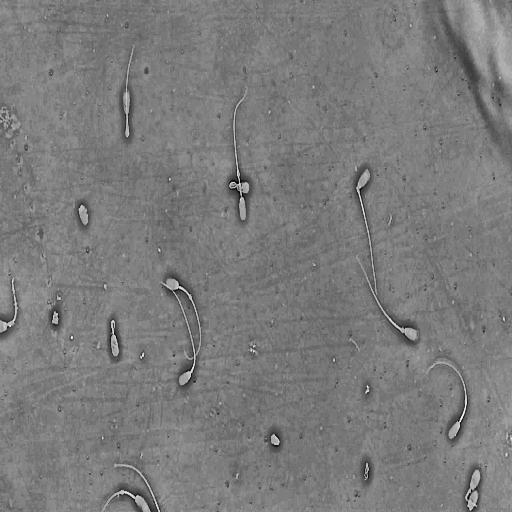coiled-tail: (229, 182, 245, 191), (110, 320, 115, 333), (110, 332, 113, 335)
dirt-particles: (269, 430, 281, 449), (51, 307, 59, 328), (363, 459, 370, 482)
distal-droplet: (188, 293, 192, 300), (120, 489, 124, 496), (237, 170, 240, 178), (465, 398, 467, 405)
folded-tail: (356, 186, 376, 294), (125, 49, 133, 139)
loose-head: (464, 467, 482, 509), (74, 201, 90, 229), (466, 488, 480, 512)
loose-tail: (112, 461, 162, 512)
normal: (355, 253, 420, 347), (161, 280, 197, 388), (426, 359, 468, 442), (164, 275, 203, 363), (355, 166, 378, 299), (233, 87, 248, 223), (120, 40, 136, 142), (100, 488, 148, 512), (106, 319, 122, 363), (228, 180, 250, 196)
proximal-droplet: (400, 327, 405, 334)
